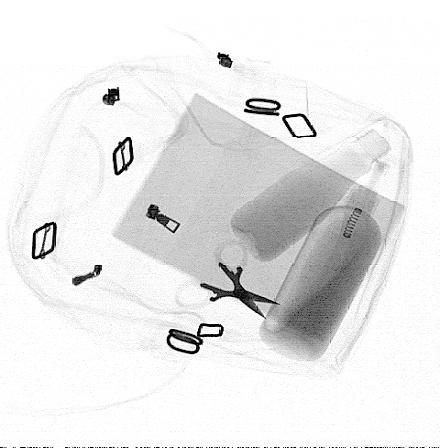Scissors: (171, 238, 283, 320)
